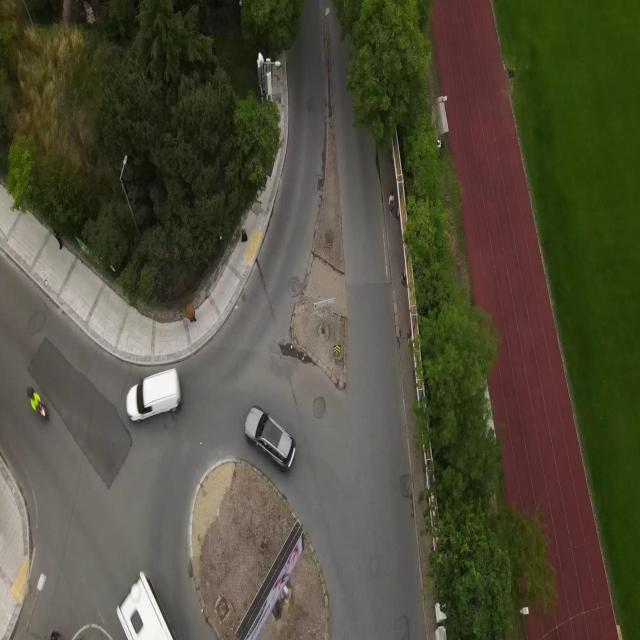p3rson: (185, 303, 198, 324), (54, 227, 64, 251), (388, 191, 396, 216), (51, 630, 62, 640)
